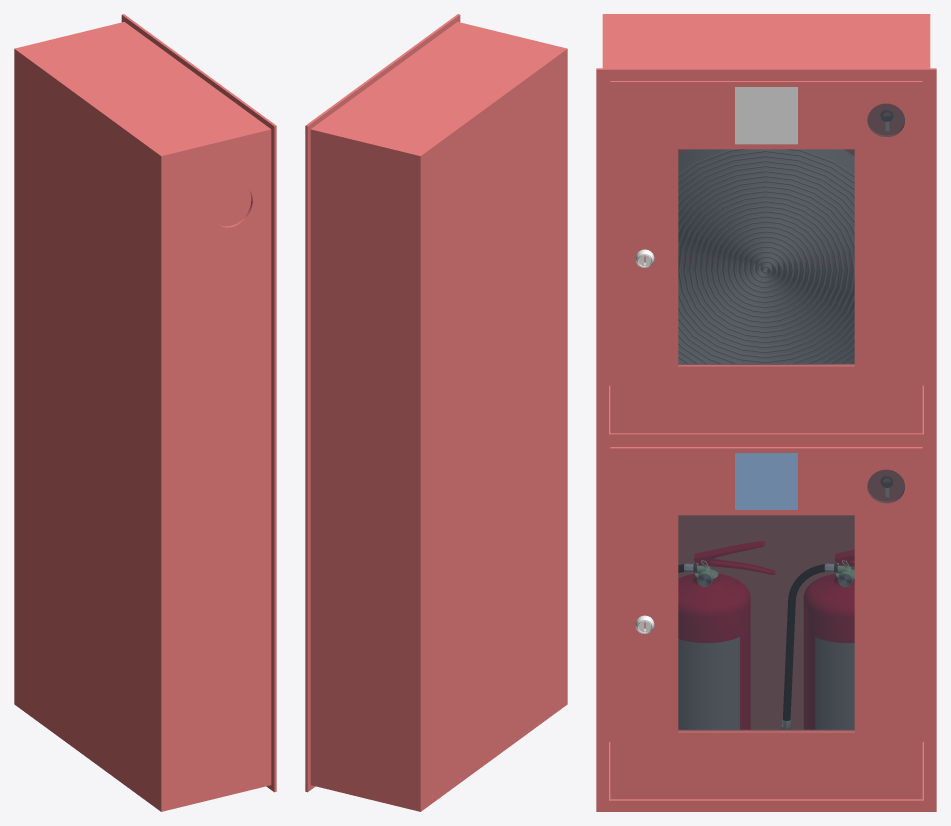
Rendered from MieHuoQi.FBX.
The picture shows the model from 3 angles, left to right: view 1: azimuth 30°, elevation 25°; view 2: azimuth 150°, elevation 25°; view 3: azimuth 270°, elevation 25°; orthographic projection. The views are drawn at different scales.
Parts seen in each view (by area): view 1: Obj3d66-497363-2-878, Obj3d66-497363-1-964; view 2: Obj3d66-497363-2-878, Obj3d66-497363-1-964; view 3: Obj3d66-497363-19-270, Obj3d66-497363-12-651, Obj3d66-497363-17-659, Obj3d66-497363-10-865, pCube1, Obj3d66-497363-2-878, Obj3d66-497363-1-964, Obj3d66-497363-23-569, Obj3d66-497363-22-450, Obj3d66-497363-3-728, Obj3d66-497363-20-506, Obj3d66-497363-21-234 (+2 smaller).
Part boxes in pixels (x1,y1,x2,y2): Obj3d66-497363-2-878: (14,22,271,811); Obj3d66-497363-1-964: (121,14,276,792); Obj3d66-497363-2-878: (310,22,567,811); Obj3d66-497363-1-964: (305,14,460,792); Obj3d66-497363-19-270: (610,447,922,799); Obj3d66-497363-12-651: (610,81,922,433); Obj3d66-497363-17-659: (678,515,854,731); Obj3d66-497363-10-865: (678,149,854,365); pCube1: (678,149,854,363); Obj3d66-497363-2-878: (602,14,930,799); Obj3d66-497363-1-964: (596,68,936,811); Obj3d66-497363-23-569: (678,541,775,729); Obj3d66-497363-22-450: (782,550,854,729); Obj3d66-497363-3-728: (609,385,923,446); Obj3d66-497363-20-506: (735,87,797,144); Obj3d66-497363-21-234: (735,453,797,509).
Size of the model in its own units: 24 by 130 by 54.
